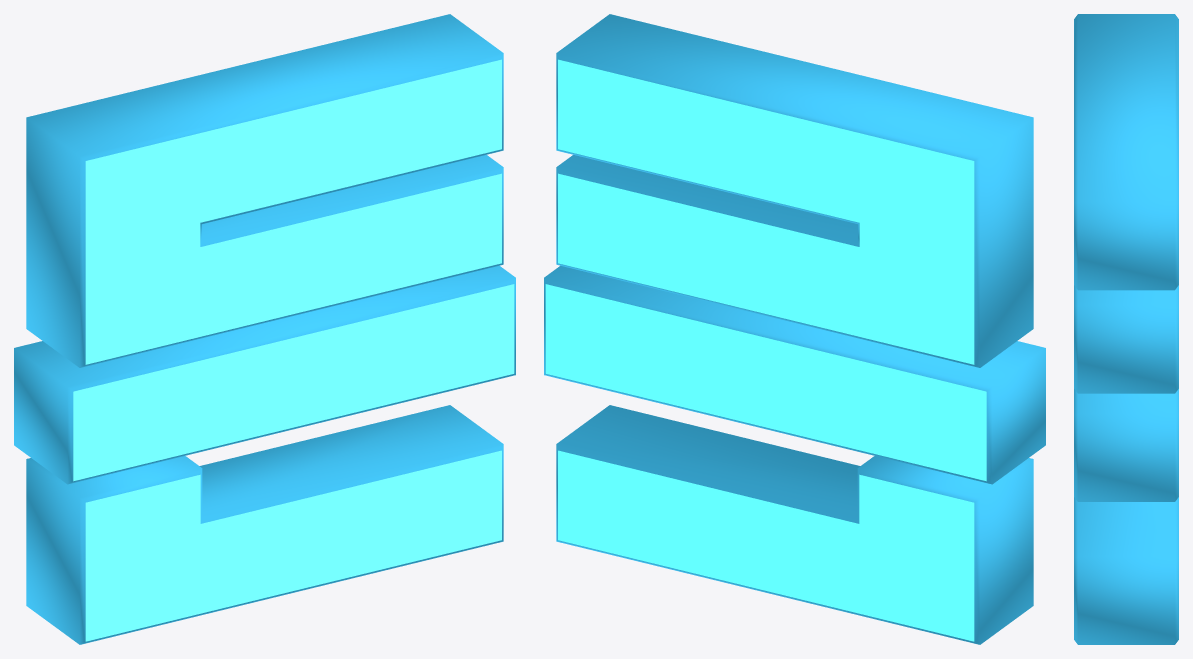
3 views of the same model, side by side, from view 1: azimuth 30°, elevation 25°; view 2: azimuth 150°, elevation 25°; view 3: azimuth 270°, elevation 25° (orthographic). The views are drawn at different scales.
Visible parts, largest first — view 1: glyph; view 2: glyph; view 3: glyph.
Part boxes in pixels (bbox=[...]): glyph: bbox=[14, 14, 515, 644]; glyph: bbox=[544, 14, 1045, 644]; glyph: bbox=[1074, 14, 1178, 644].
Bounding box in the file's own units: 0.0726 × 0.0756 × 0.0162.
